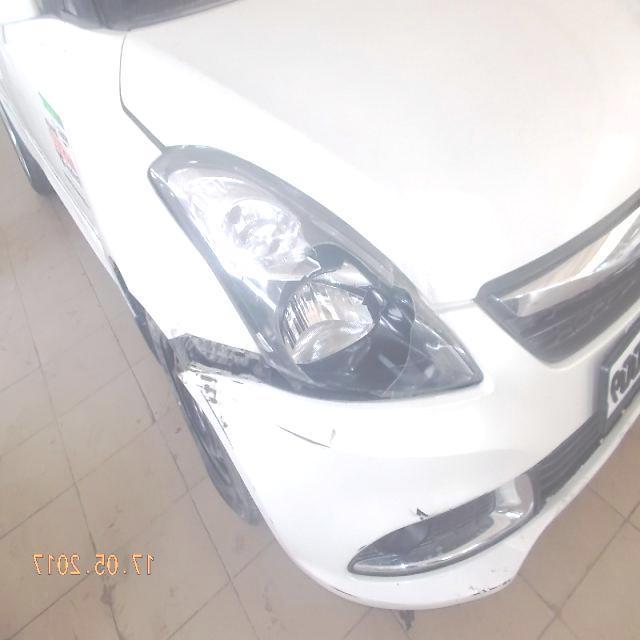minor: (147, 317, 273, 476), (375, 204, 479, 310), (184, 371, 230, 450), (276, 425, 333, 449), (464, 576, 514, 601), (323, 587, 358, 602), (412, 508, 432, 524)
moderate: (149, 151, 482, 402)
